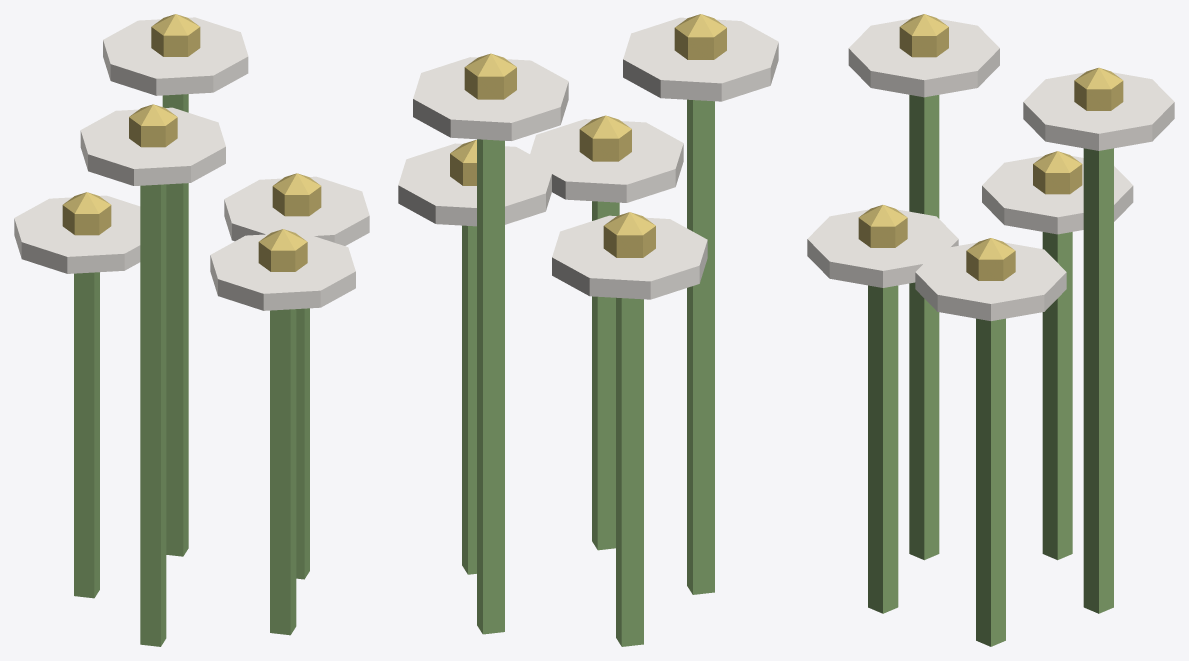
The model's file is 25_Daisy.glb.
3 views of the same model, side by side, from view 1: azimuth 30°, elevation 25°; view 2: azimuth 150°, elevation 25°; view 3: azimuth 270°, elevation 25° (orthographic). The views are drawn at different scales.
Visible parts, largest first — view 1: Daisy_Stem4, Daisy_Stem2, Daisy_Stem5, Daisy_Stem3, Daisy_Petals4, Daisy_Petals2, Daisy_Petals5, Daisy_Petals3, Daisy_Petals1, Daisy_Stem1, Daisy_Center3, Daisy_Center1 (+3 smaller); view 2: Daisy_Stem2, Daisy_Stem4, Daisy_Stem3, Daisy_Petals2, Daisy_Petals3, Daisy_Petals4, Daisy_Petals5, Daisy_Petals1, Daisy_Stem5, Daisy_Stem1, Daisy_Center5, Daisy_Center2 (+3 smaller); view 3: Daisy_Stem2, Daisy_Stem4, Daisy_Stem5, Daisy_Stem1, Daisy_Stem3, Daisy_Petals2, Daisy_Petals4, Daisy_Petals1, Daisy_Petals5, Daisy_Petals3, Daisy_Center3, Daisy_Center4 (+3 smaller).
Boxes of the visible parts, box(x1,y1,x2,y2) form: Daisy_Stem4: box(140, 184, 166, 646); Daisy_Stem2: box(162, 94, 188, 556); Daisy_Stem5: box(270, 309, 296, 635); Daisy_Stem3: box(74, 272, 99, 598); Daisy_Petals4: box(80, 107, 225, 185); Daisy_Petals2: box(103, 17, 248, 95); Daisy_Petals5: box(210, 233, 355, 310); Daisy_Petals3: box(14, 195, 140, 273); Daisy_Petals1: box(224, 176, 369, 245); Daisy_Stem1: box(296, 308, 309, 579); Daisy_Center3: box(62, 192, 111, 235); Daisy_Center1: box(272, 173, 321, 216); Daisy_Stem2: box(477, 139, 504, 634); Daisy_Stem4: box(687, 99, 714, 594); Daisy_Stem3: box(616, 297, 643, 646); Daisy_Petals2: box(413, 57, 568, 140); Daisy_Petals3: box(552, 215, 707, 299); Daisy_Petals4: box(623, 17, 778, 101); Daisy_Petals5: box(528, 119, 683, 202); Daisy_Petals1: box(398, 143, 551, 226); Daisy_Stem5: box(592, 201, 619, 550); Daisy_Stem1: box(462, 225, 476, 574); Daisy_Center5: box(579, 115, 631, 161); Daisy_Center2: box(464, 53, 516, 99); Daisy_Stem2: box(1083, 148, 1113, 613); Daisy_Stem4: box(909, 95, 939, 560); Daisy_Stem5: box(868, 285, 898, 613); Daisy_Stem1: box(976, 318, 1005, 646); Daisy_Stem3: box(1042, 232, 1072, 560); Daisy_Petals2: box(1023, 72, 1174, 150); Daisy_Petals4: box(848, 18, 999, 97); Daisy_Petals1: box(915, 242, 1066, 320); Daisy_Petals5: box(807, 209, 958, 287); Daisy_Petals3: box(982, 156, 1133, 234); Daisy_Center3: box(1033, 151, 1082, 194); Daisy_Center4: box(899, 14, 948, 57).
Bounding box in the file's own units: 0.1885 × 0.315 × 0.1941.
